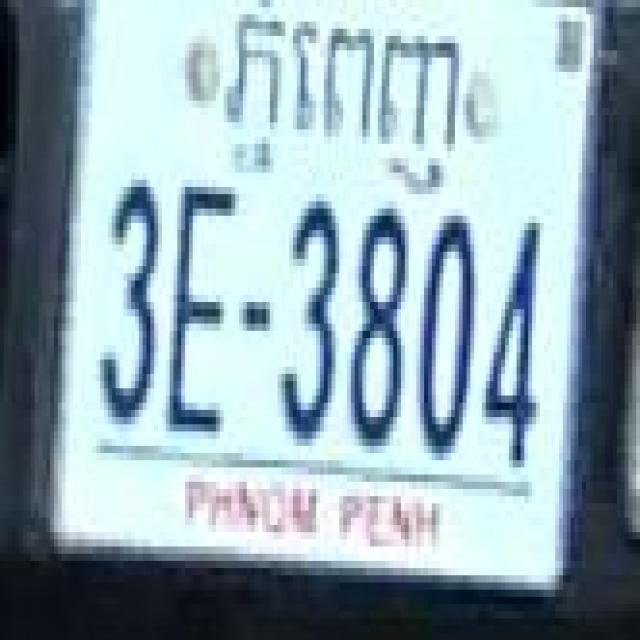Phnom_Penh: (224, 7, 460, 190)
